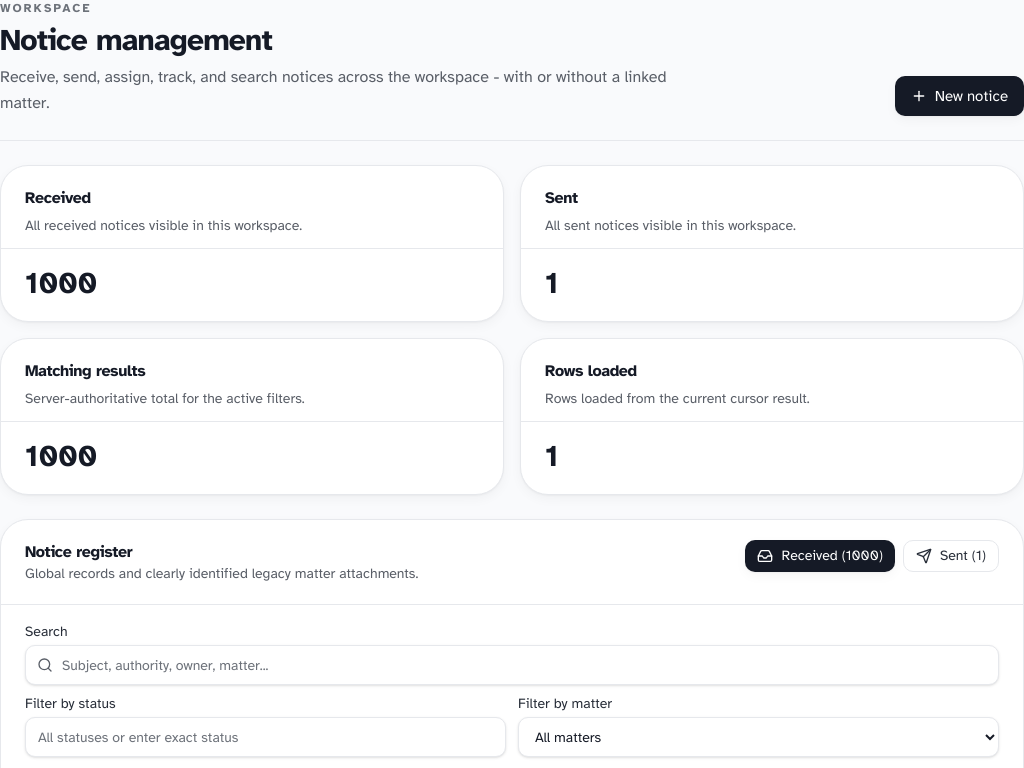
Test: centralized notice management › sends every register filter to page one and displays the server total
In the field labelled "Search": (512, 665) [25,645,999,685], type "deep server"
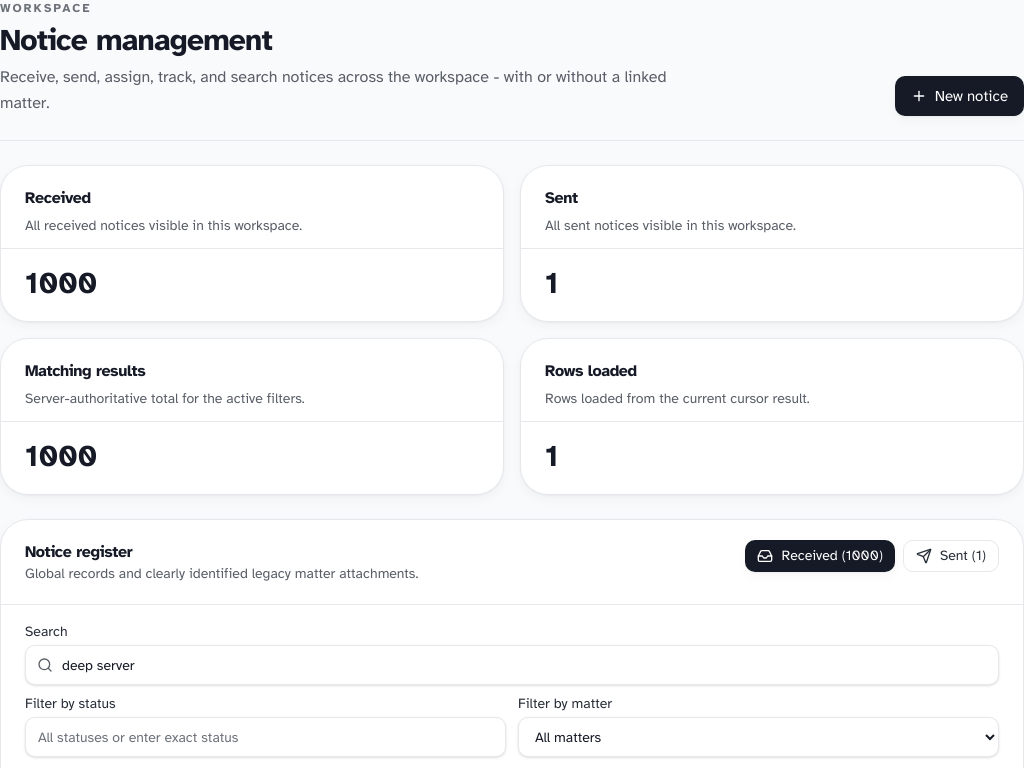
In the field labelled "Filter by status": (266, 737) [25,717,506,757], type "Awaiting tribunal review"
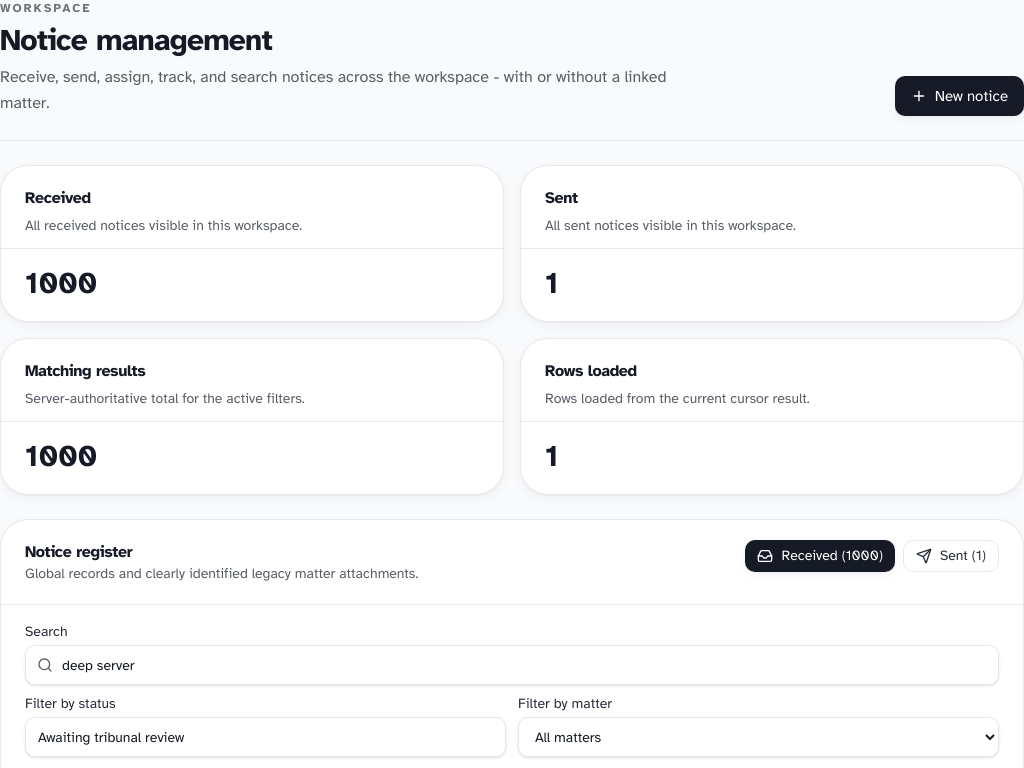
Select "MAT-001 - Alpha v State" in the dropdown labelled "Filter by matter": (758, 737) [518,717,999,757]
(page scrolled)
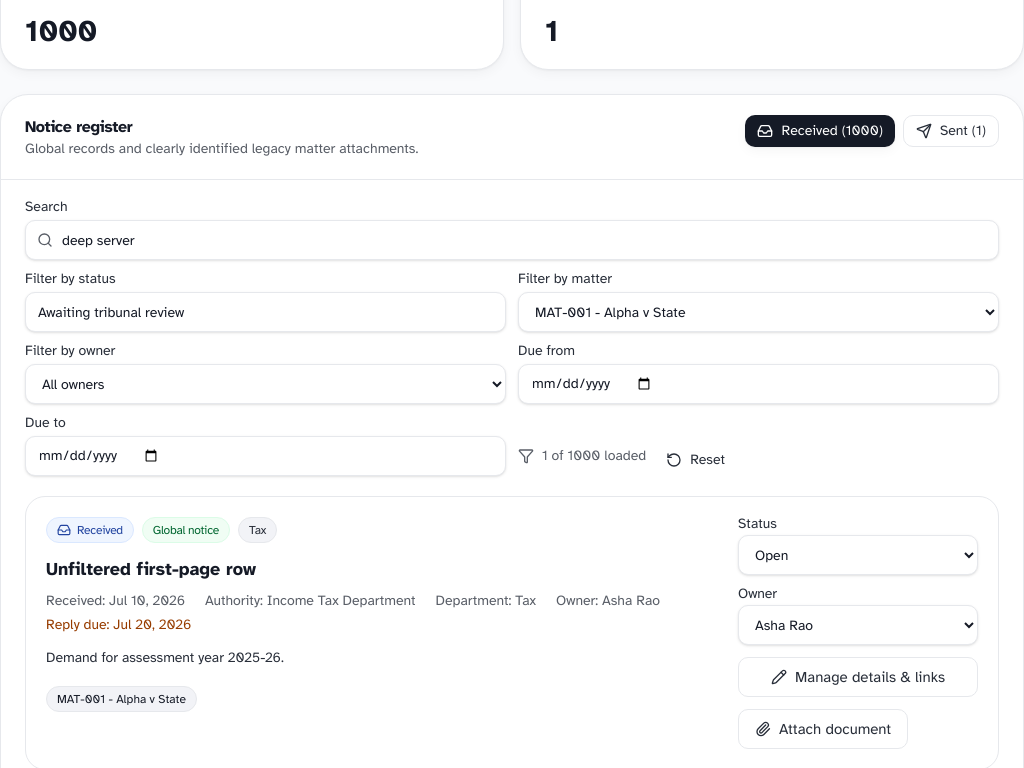
Expected: the heading "Unfiltered first-page row" is shown, [46,558,256,580]
Select "Vikram Sen" in the dropdown labelled "Filter by owner": (266, 384) [25,364,506,404]
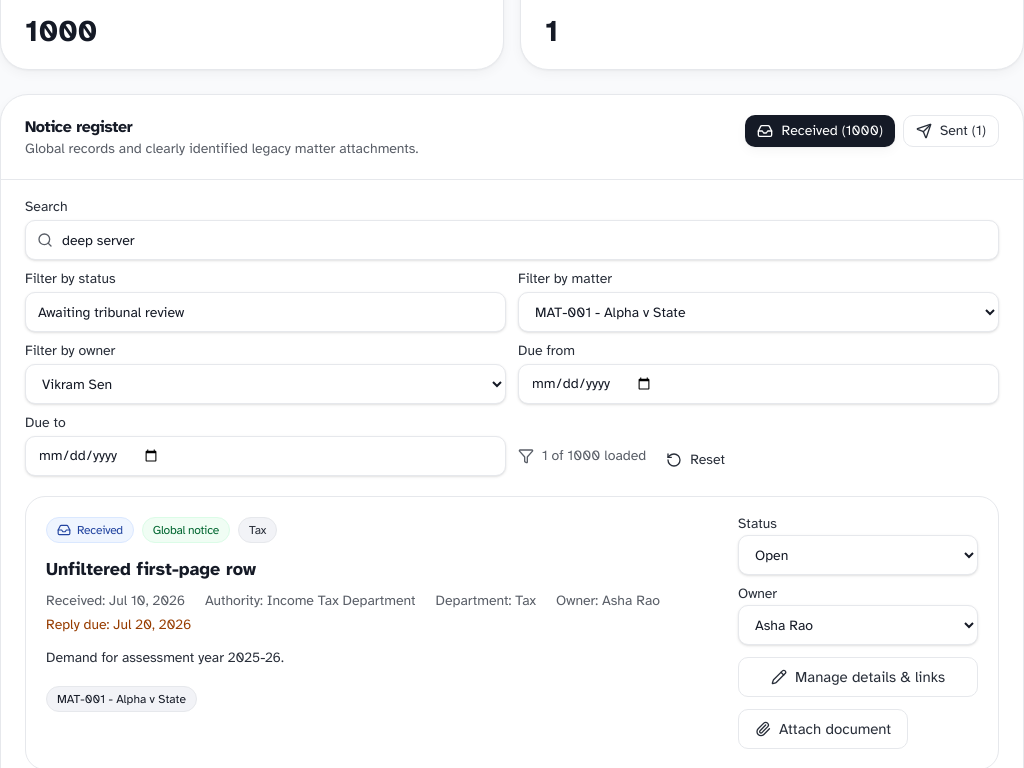
Expected: the heading "Unfiltered first-page row" is shown, [46,558,256,580]
In the date field labelled "Due from": (758, 384) [518,364,999,404], type "2026-07-01"
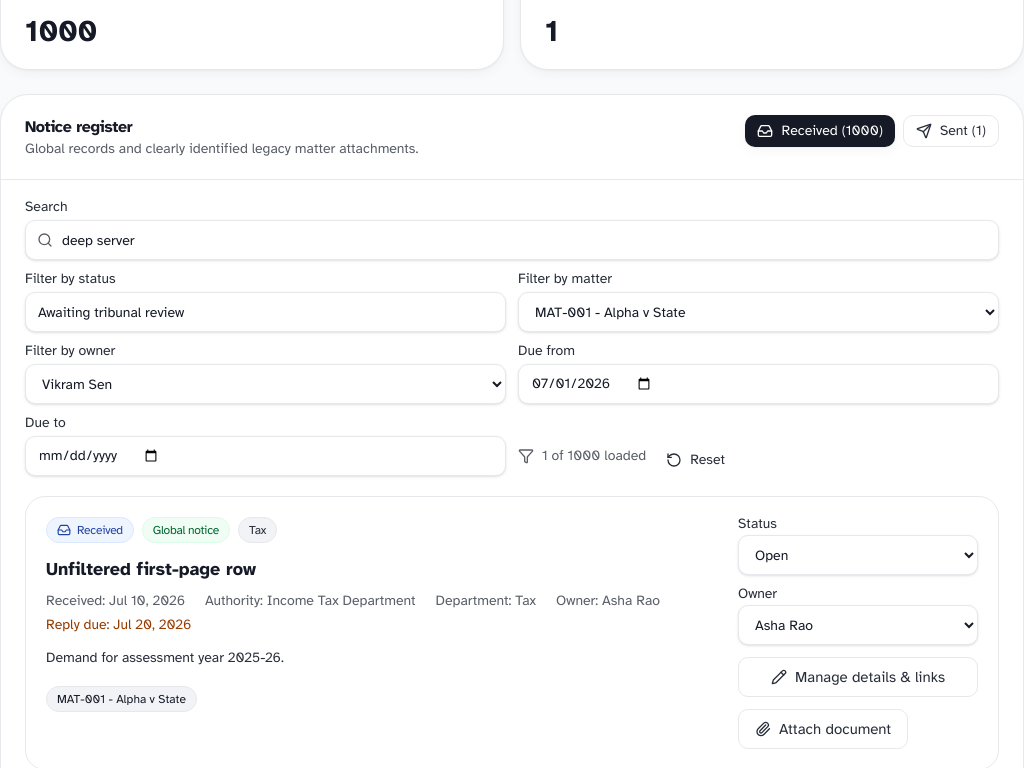
Expected: the heading "Unfiltered first-page row" is shown, [46,558,256,580]
In the date field labelled "Due to": (266, 456) [25,436,506,476], type "2026-07-31"
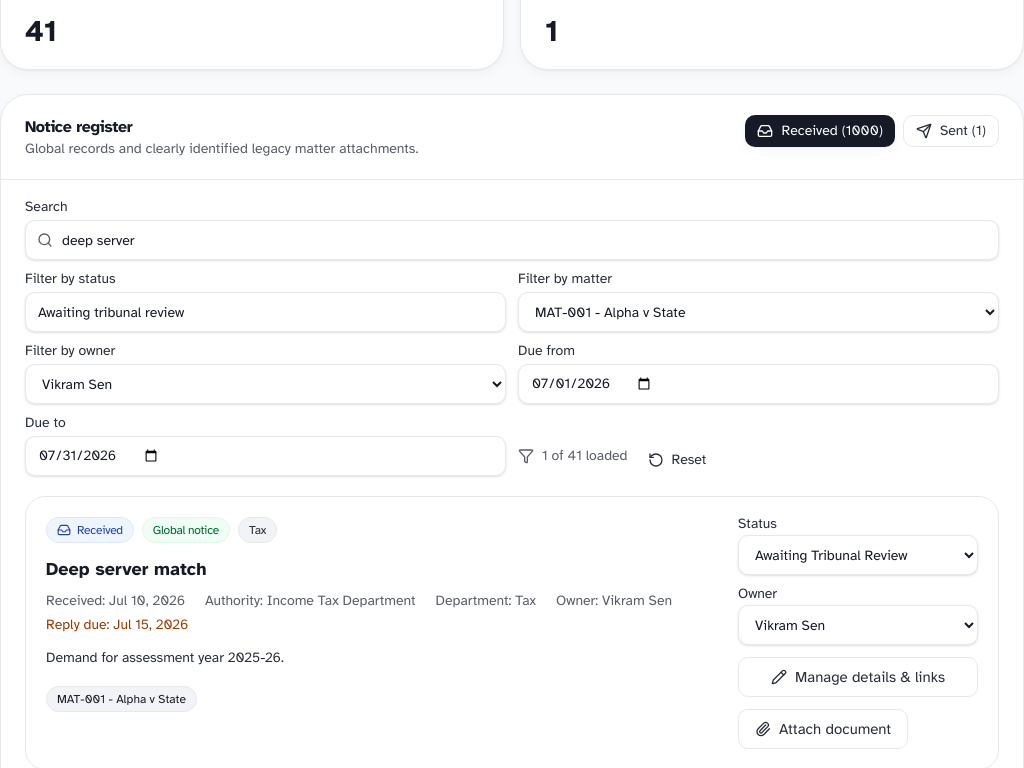
Expected: the heading "Deep server match" is shown, [46,558,206,580]
Expected: the heading "Unfiltered first-page row" is gone
Expected: the element with test id "notice-summary-matching-results" shows "41", [25,12,57,50]
